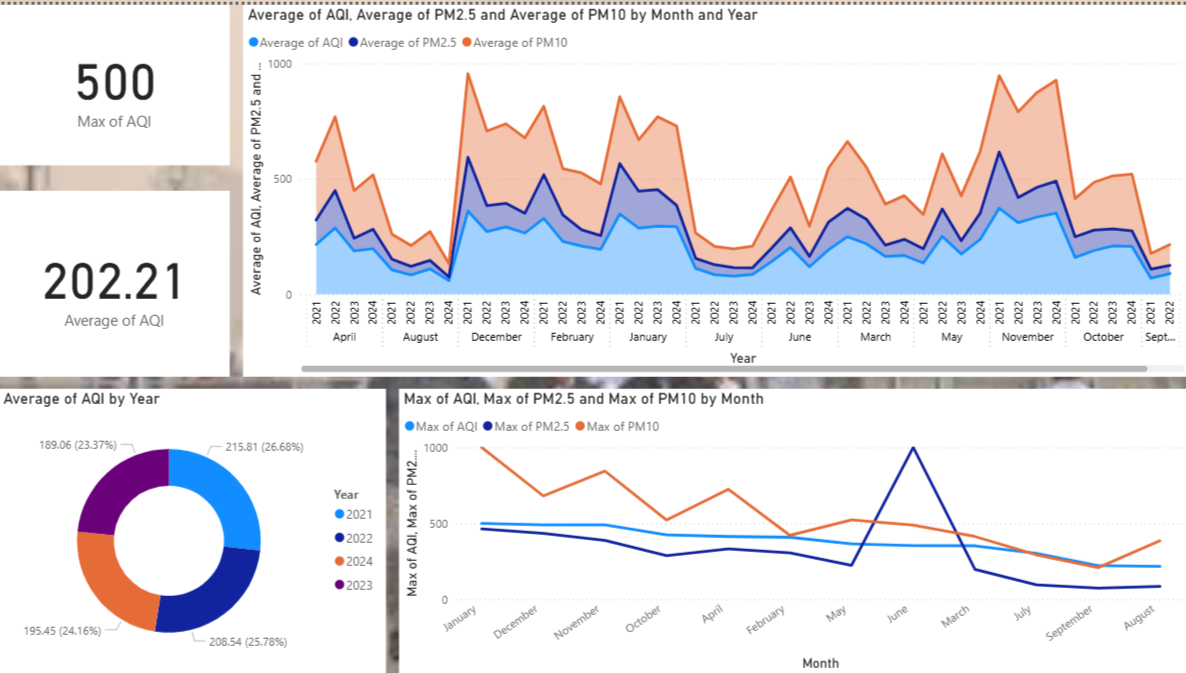

The page's visual inventory and layout, read from the dashboard file:
{"tool":"powerbi","page":{"name":"Page 1","canvas":[1280,720],"ordinal":0},"visuals":[{"type":"lineChart","fields":{"Y":["Max(Table2.AQI)","Max(Table2.PM2.5)","Max(Table2.PM10)"],"Category":["Table2.Month"]},"box":[431.1,413.6,849.4,307],"z":0},{"type":"donutChart","fields":{"Y":["Avg(Table2.AQI)"],"Category":["Table2.Year"]},"box":[0,413.6,416.7,307],"z":1000},{"type":"stackedAreaChart","fields":{"Category":["Table2.Month","Table2.Year"],"Y":["Avg(Table2.AQI)","Avg(Table2.PM2.5)","Avg(Table2.PM10)"]},"box":[262.9,0,1017.7,400],"z":2000},{"type":"card","fields":{"Values":["Max(Table2.AQI)"]},"box":[0,0,248.4,172.6],"z":3000},{"type":"card","fields":{"Values":["Avg(Table2.AQI)"]},"box":[0,200,248.4,200],"z":4000}]}

Visuals, with their boxes in screenshot pixels (x1, y1, x2, y2), scaled from the page's 1280x720 canvas onto the 1186x673 screenshot:
lineChart - Max(Table2.AQI) x Max(Table2.PM2.5): 399,387,1185,672
donutChart - Avg(Table2.AQI) x Table2.Year: 0,387,386,672
stackedAreaChart - Table2.Month x Table2.Year: 244,0,1185,374
card - Max(Table2.AQI): 0,0,230,161
card - Avg(Table2.AQI): 0,187,230,374
